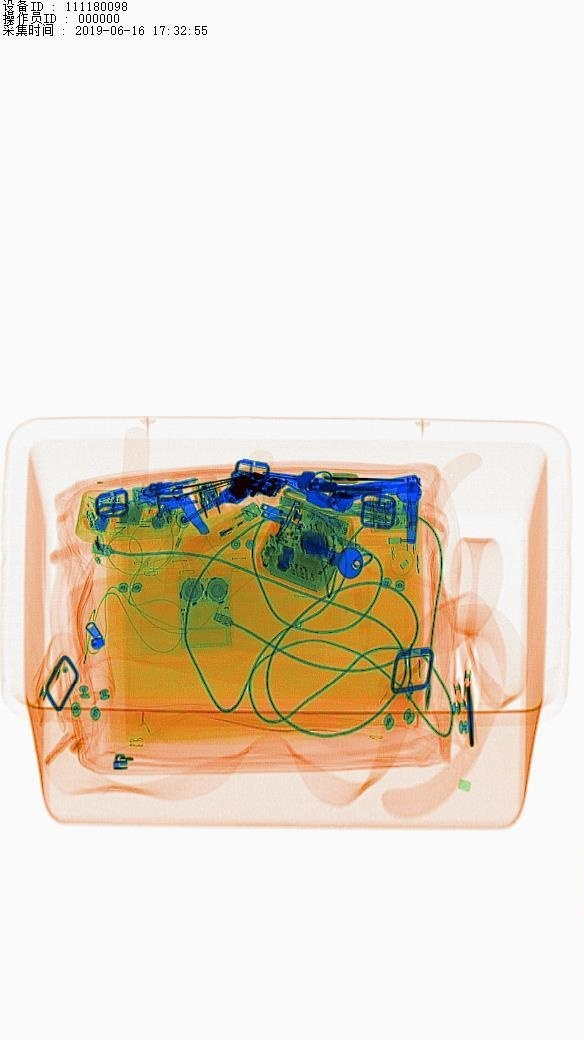NonmetallicFire: (187, 496, 275, 572)
